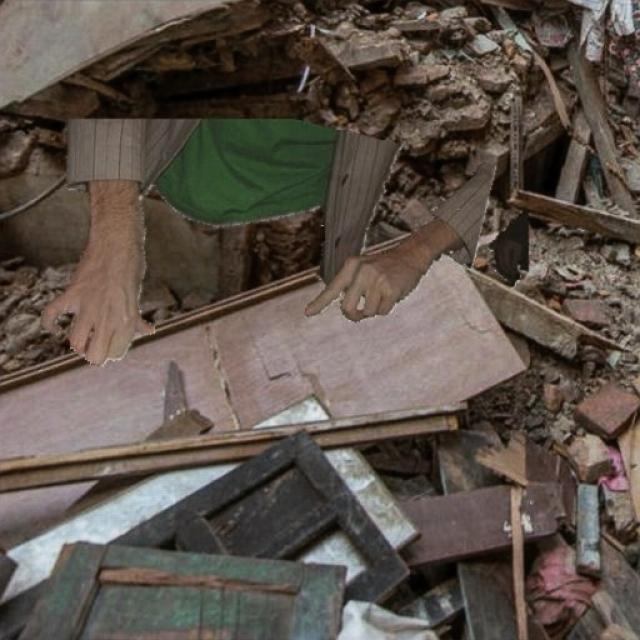Person in Rubble: (39, 119, 528, 365)
